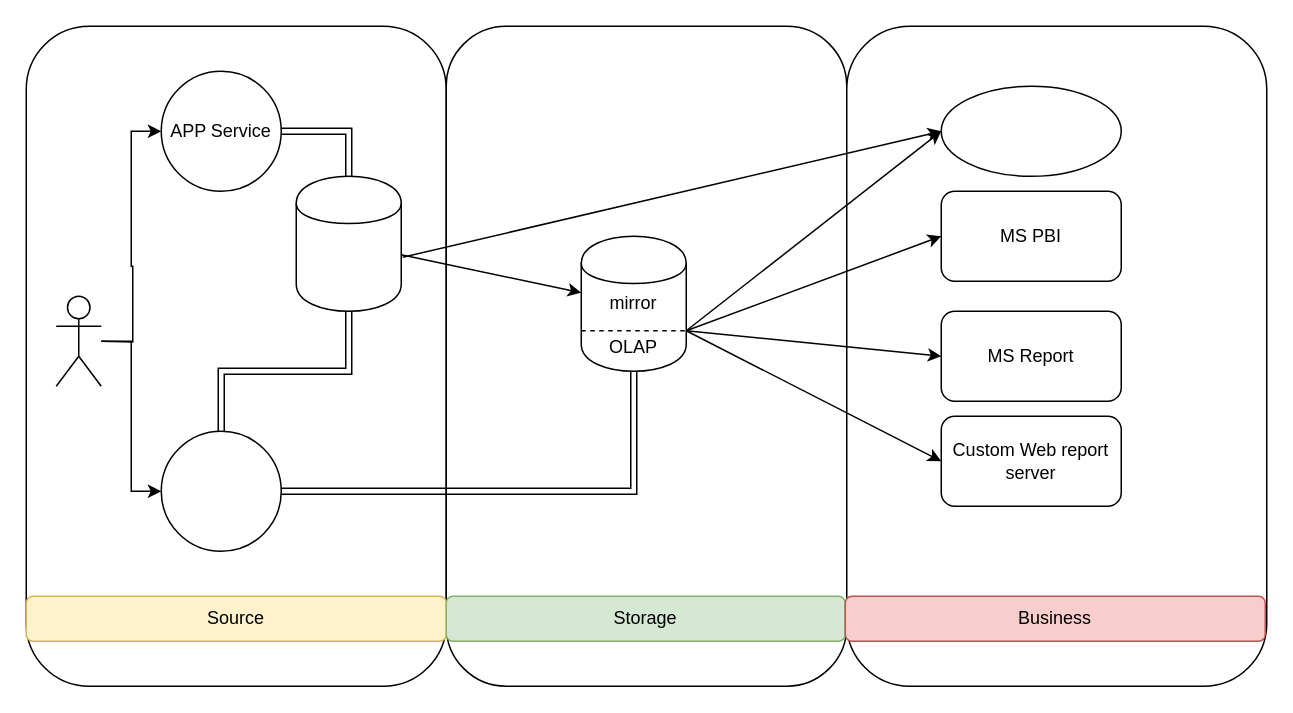
Image size: 1293x713. Some labels were removed from this diagram. Each missing label, with the centre of its shape:
Actor: (78,340)
Service Desk OLTP: (348,243)
SQL: (1030,130)
WWW Portal: (220,490)
